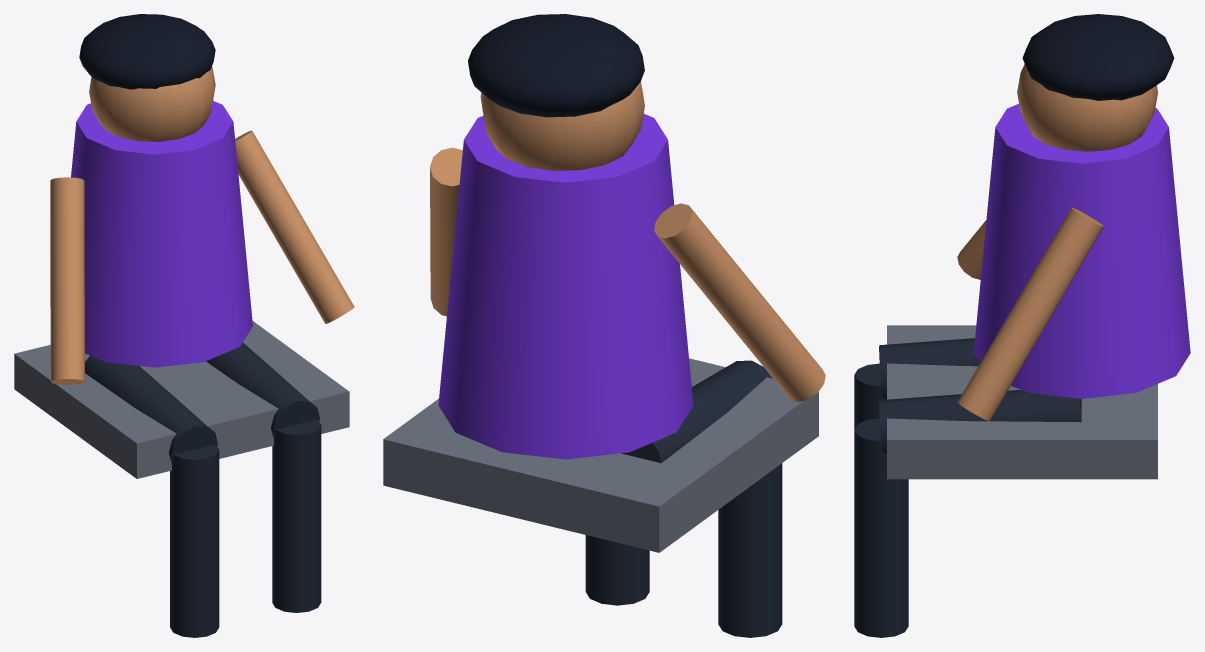
3 renders of one model, left to right at view 1: azimuth 30°, elevation 25°; view 2: azimuth 150°, elevation 25°; view 3: azimuth 270°, elevation 25°, orthographic. The views are drawn at different scales.
Parts seen in each view (by area): view 1: person-seated; view 2: person-seated; view 3: person-seated.
Part boxes in pixels (<box>): person-seated: <box>14,14,354,637</box>; person-seated: <box>383,14,825,637</box>; person-seated: <box>854,14,1190,637</box>.
Size of the model in its own units: 0.6984 by 1.15 by 0.6127.
